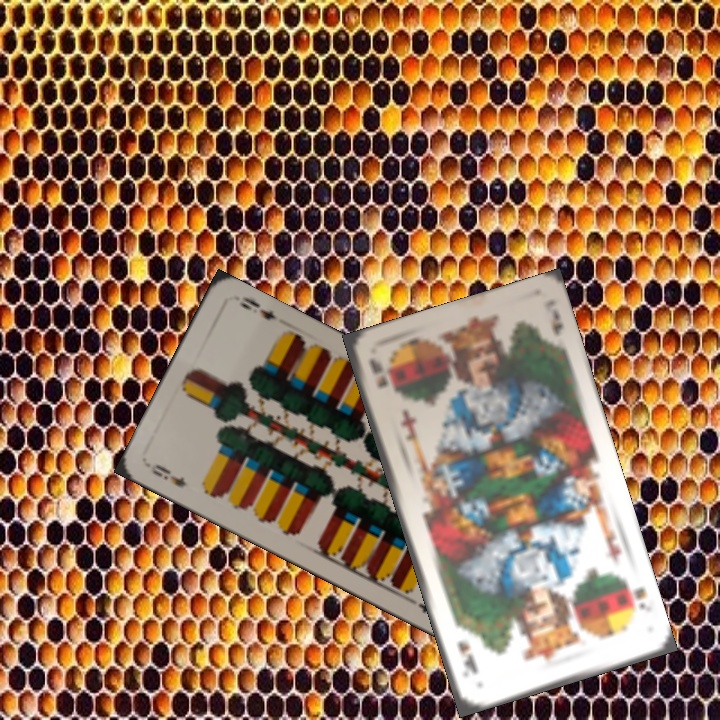E9: (146, 460, 189, 490)
SK: (620, 577, 655, 615), (364, 354, 391, 390)
